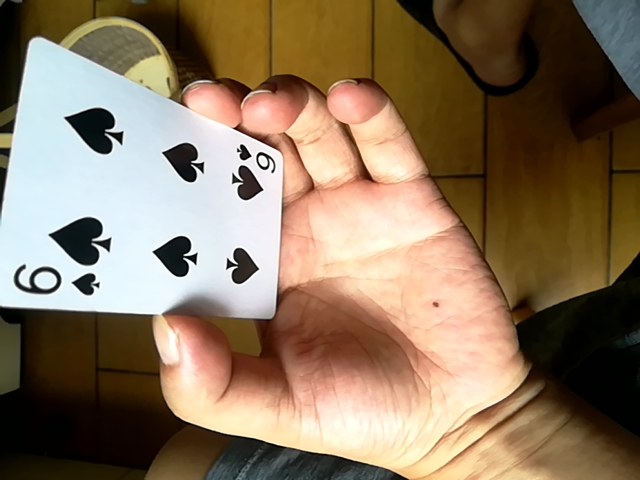ht 6: (3, 37, 285, 330)
